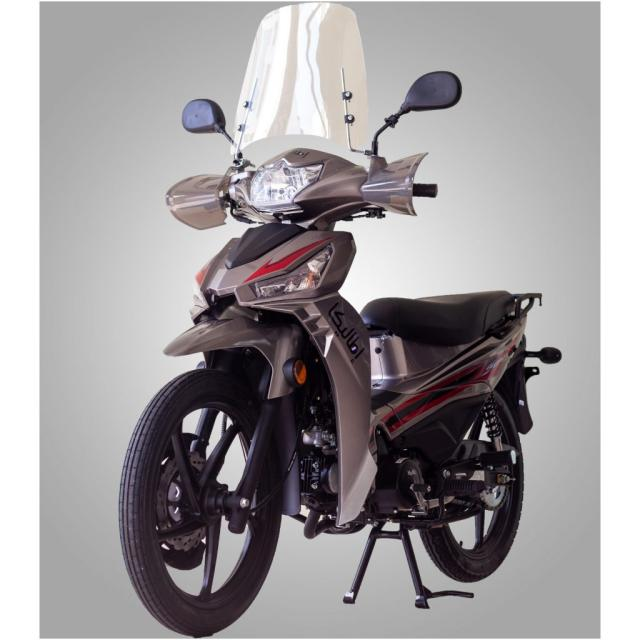Motorcycle: (119, 2, 562, 637)
